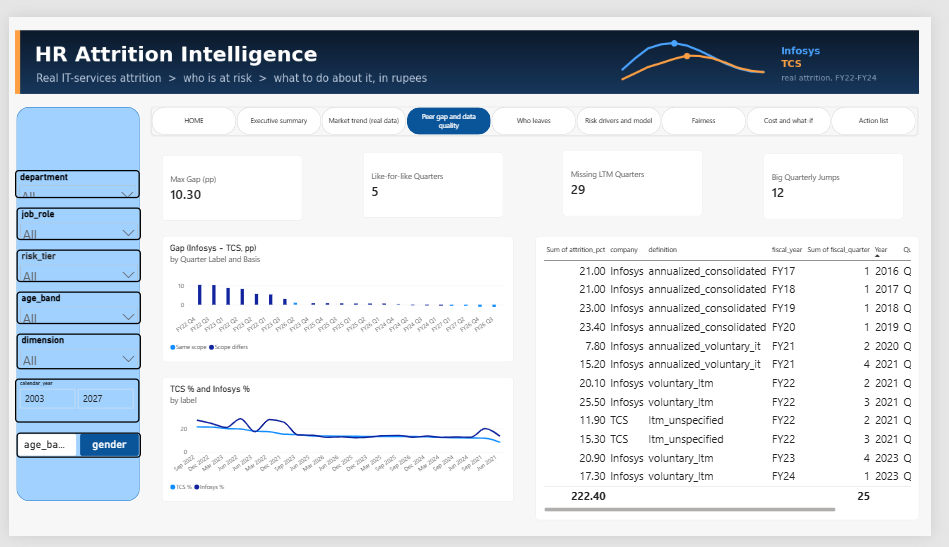

What the dashboard file says about the page in this screenshot:
{"tool":"powerbi","page":{"name":"Peer gap and data quality","canvas":[1920,1080],"ordinal":3},"visuals":[{"type":"image","box":[12.2,16.7,1883.3,156.7],"z":0},{"type":"actionButton","box":[43,334.2,62,42.1],"z":0,"group":"g1"},{"type":"shape","box":[15.3,188.5,256.8,820.8],"z":1000,"group":"g1"},{"type":"cardVisual","fields":{"Data":["_Measures.Max Gap (pp)"]},"box":[317.3,286.3,292.5,137.5],"z":1000},{"type":"cardVisual","fields":{"Data":["_Measures.Like-for-like Quarters"]},"box":[736.1,280.8,292,137],"z":2000},{"type":"cardVisual","fields":{"Data":["_Measures.Missing LTM Quarters"]},"box":[1154.4,278.4,292,137],"z":3000},{"type":"slicer","fields":{"Values":["mart employee_action_list.job_role"]},"box":[14.8,397,259.6,67.8],"z":3000,"group":"g1"},{"type":"cardVisual","fields":{"Data":["_Measures.Big Quarterly Jumps"]},"box":[1572.6,283.3,292,137.5],"z":4000},{"type":"slicer","fields":{"Values":["dim_risk_tier.risk_tier"]},"box":[15.4,484.8,259.6,68],"z":4000,"group":"g1"},{"type":"lineChart","fields":{"Category":["mart dim_quarter.label"],"Y":["_Measures.TCS %","_Measures.Infosys %"]},"box":[317.3,749.2,732.5,260.1],"z":5000},{"type":"clusteredColumnChart","fields":{"Category":["mart peer_gap_tcs_infosys.Quarter Label"],"Series":["mart peer_gap_tcs_infosys.Basis"],"Y":["_Measures.Gap (Infosys - TCS, pp)"]},"box":[317.3,455.7,732.5,262.5],"z":6000},{"type":"slicer","fields":{"Values":["staging hr_employee.age_band"]},"box":[14.2,572.8,259.6,67.8],"z":6000,"group":"g1"},{"type":"pageNavigator","box":[298.2,188.5,1596.2,59.6],"z":7000},{"type":"slicer","fields":{"Values":["mart hr_attrition_by_segment.dimension"]},"box":[16,660.6,259.6,74.4],"z":7000,"group":"g1"},{"type":"slicer","fields":{"Values":["mart employee_action_list.department"]},"box":[11.9,318.5,260.1,58.5],"z":7500,"group":"g1"},{"type":"tableEx","fields":{"Values":["Sum(mart dq_big_jumps.attrition_pct)","mart dq_big_jumps.company","mart dq_big_jumps.definition","mart dq_big_jumps.fiscal_year","Sum(mart dq_big_jumps.fiscal_quarter)","mart dq_big_jumps.period_end.Variation.Date Hierarchy.Year","mart dq_big_jumps.period_end.Variation.Date Hierarchy.Quarter","mart dq_big_jumps.period_end.Variation.Date Hierarchy.Month","mart dq_big_jumps.period_end.Variation.Date Hierarchy.Day"]},"box":[1097.5,455.7,799.3,591.7],"z":8000},{"type":"slicer","fields":{"Values":["mart dim_quarter.calendar_year"]},"box":[13,755.1,259.6,91.9],"z":8000,"group":"g1"},{"type":"group","id":"g1","title":"Group 2","box":[11.9,188.5,262.5,820.8],"z":9000},{"type":"advancedSlicerVisual","fields":{"Values":["fairness_by_group.dimension"]},"box":[13.6,867,259.6,52.5],"z":9500,"group":"g1"}]}

Visuals, with their boxes in screenshot pixels (x1, y1, x2, y2), scaled from the page's 1920x1080 canvas onto the 949x547 screenshot:
image: <bbox>6, 8, 937, 88</bbox>
actionButton: <bbox>21, 169, 52, 191</bbox>
shape: <bbox>8, 95, 134, 511</bbox>
cardVisual - _Measures.Max Gap (pp): <bbox>157, 145, 301, 215</bbox>
cardVisual - _Measures.Like-for-like Quarters: <bbox>364, 142, 508, 212</bbox>
cardVisual - _Measures.Missing LTM Quarters: <bbox>571, 141, 715, 210</bbox>
slicer - mart employee_action_list.job_role: <bbox>7, 201, 136, 235</bbox>
cardVisual - _Measures.Big Quarterly Jumps: <bbox>777, 143, 922, 213</bbox>
slicer - dim_risk_tier.risk_tier: <bbox>8, 246, 136, 280</bbox>
lineChart - mart dim_quarter.label x _Measures.TCS %: <bbox>157, 379, 519, 511</bbox>
clusteredColumnChart - mart peer_gap_tcs_infosys.Quarter Label x mart peer_gap_tcs_infosys.Basis: <bbox>157, 231, 519, 364</bbox>
slicer - staging hr_employee.age_band: <bbox>7, 290, 135, 324</bbox>
pageNavigator: <bbox>147, 95, 936, 126</bbox>
slicer - mart hr_attrition_by_segment.dimension: <bbox>8, 335, 136, 372</bbox>
slicer - mart employee_action_list.department: <bbox>6, 161, 134, 191</bbox>
tableEx - Sum(mart dq_big_jumps.attrition_pct) x mart dq_big_jumps.company: <bbox>542, 231, 938, 530</bbox>
slicer - mart dim_quarter.calendar_year: <bbox>6, 382, 135, 429</bbox>
"Group 2" group: <bbox>6, 95, 136, 511</bbox>
advancedSlicerVisual - fairness_by_group.dimension: <bbox>7, 439, 135, 466</bbox>
